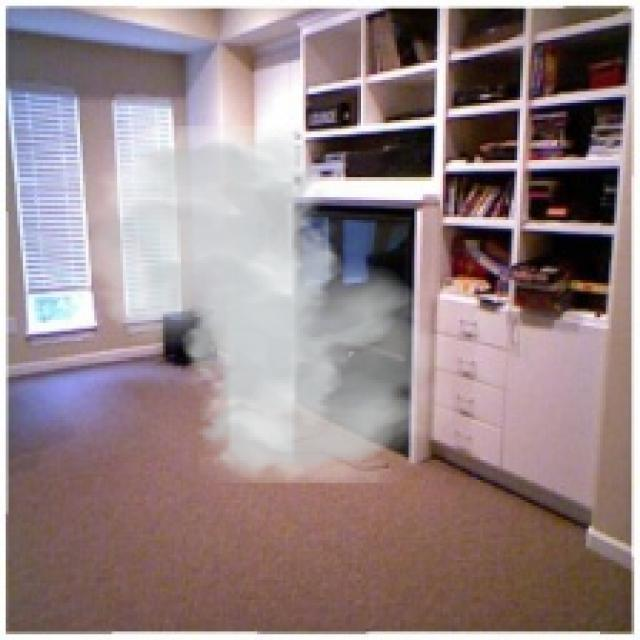Smoke: (71, 126, 452, 483)
